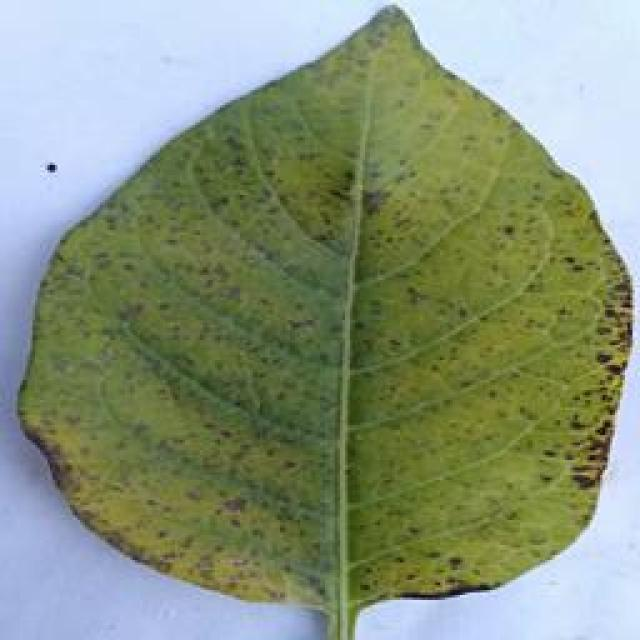Potato_Early_Blight: (12, 0, 640, 605)
